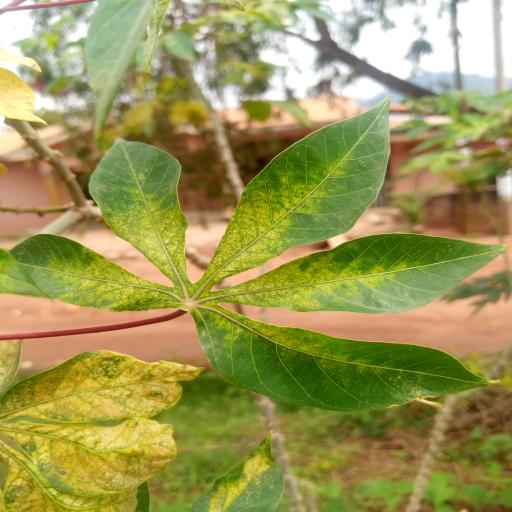Cassava_Mosaic: (0, 106, 512, 414)
